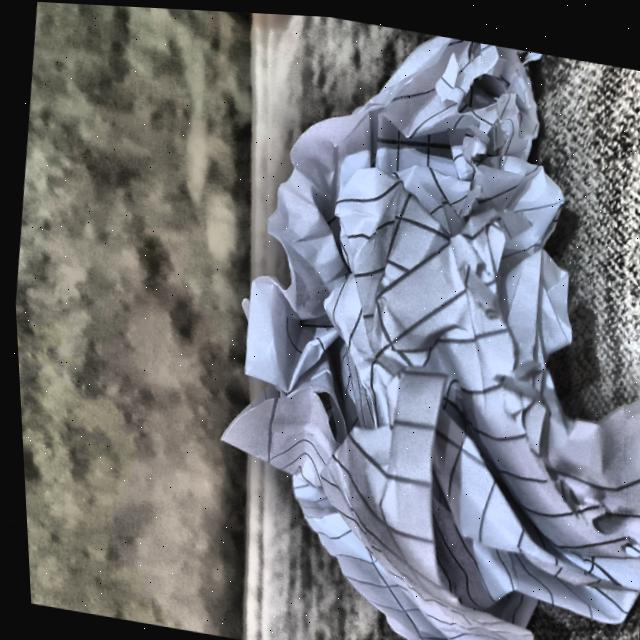paper: (187, 8, 640, 640)
